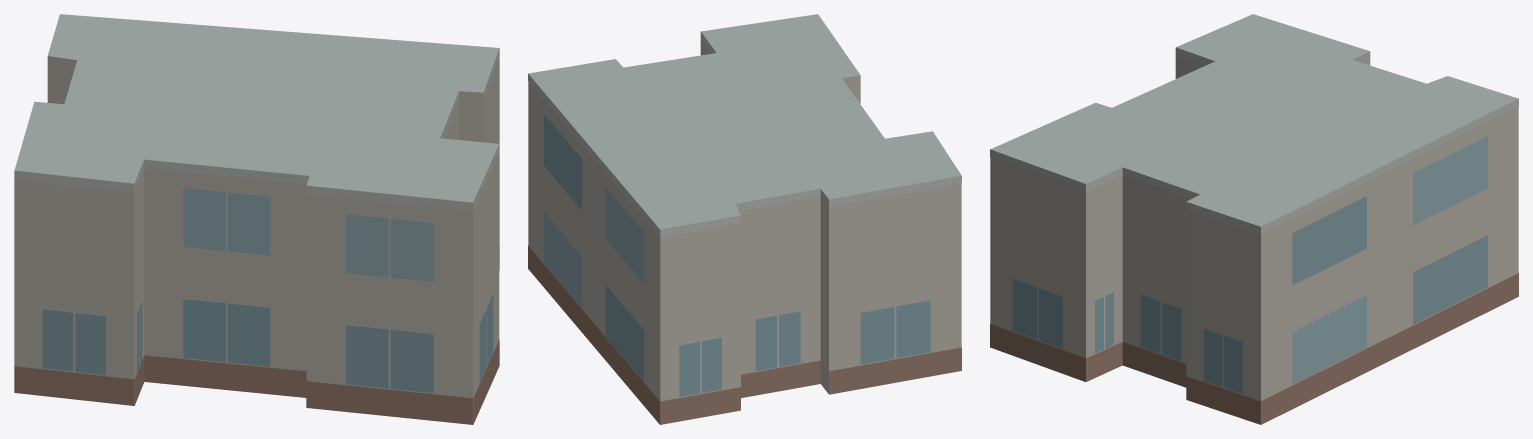
Rendered from survey-upis-32486894.glb.
3 views of the same model, side by side, from view 1: azimuth 30°, elevation 25°; view 2: azimuth 150°, elevation 25°; view 3: azimuth 270°, elevation 25° (orthographic). The views are drawn at different scales.
Visible parts, largest first — view 1: survey-upis-32486894.tmp; view 2: survey-upis-32486894.tmp; view 3: survey-upis-32486894.tmp.
Part boxes in pixels (x1,y1,x2,y2): survey-upis-32486894.tmp: (14,14,499,424); survey-upis-32486894.tmp: (528,14,961,424); survey-upis-32486894.tmp: (990,14,1518,424).
Bounding box in the file's own units: 14.06 × 6.1 × 14.76.
